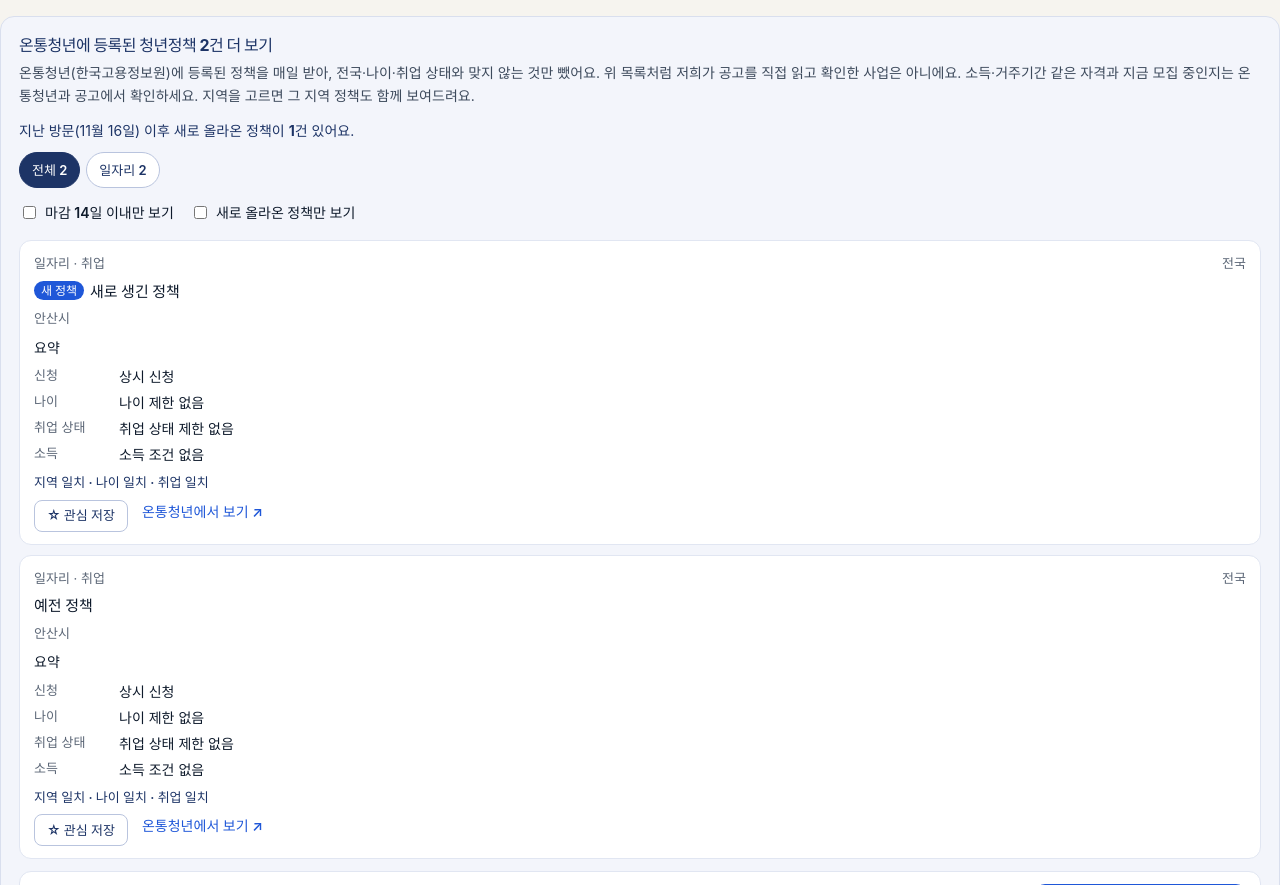
Scenario: new since the last visit › marks new policies, counts them and can show only them
This screenshot has width=1280, height=885.
Expected: the text "지난 방문(11월 16일) 이후 새로 올라온 정책이 1건 있어요." is shown, [19,122,354,139]
Expected: the heading named "새 정책새로 생긴 정책" is shown, [34,281,180,301]
Click the checkbox labelled "새로 올라온 정책만 보기" at (200, 212), box [194,206,207,219]
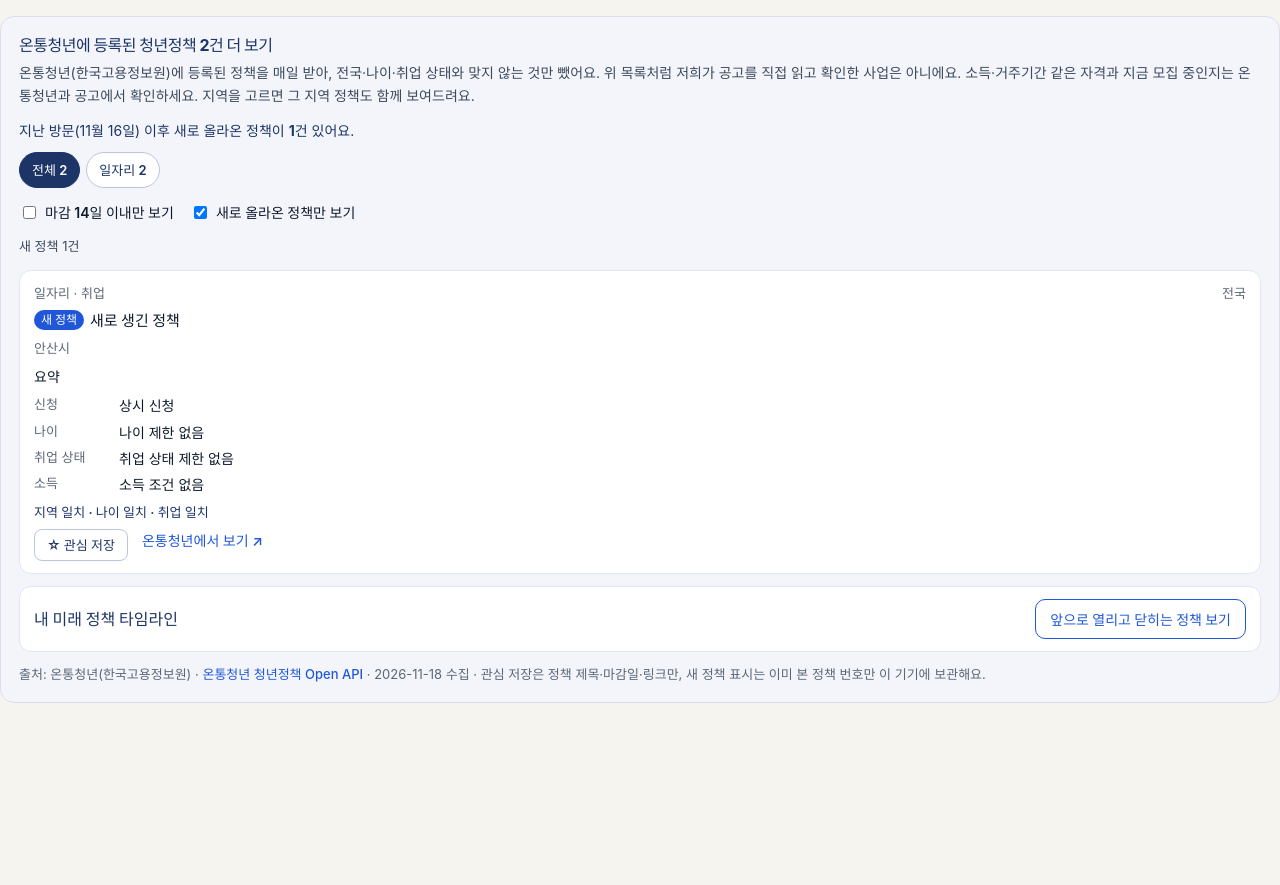
Result: the headings read "새 정책새로 생긴 정책", in this order at [34,310,180,330]
